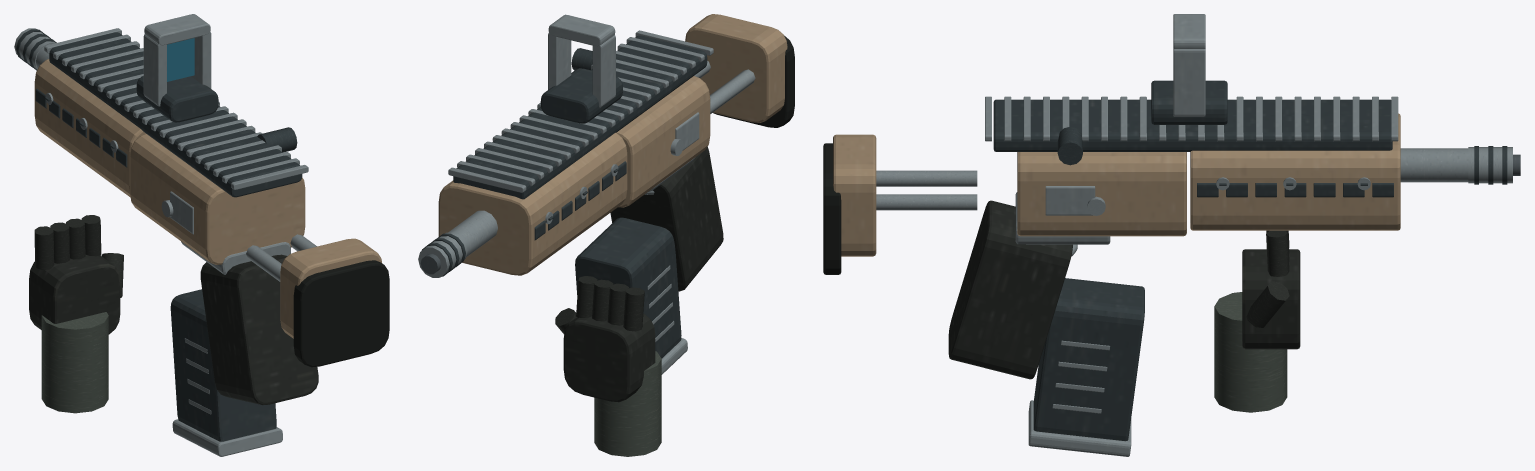
Rendered from rifle.glb.
3 views of the same model, side by side, from view 1: azimuth 30°, elevation 25°; view 2: azimuth 150°, elevation 25°; view 3: azimuth 270°, elevation 25° (orthographic). The views are drawn at different scales.
Parts seen in each view (by area): view 1: first-person-rifle; view 2: first-person-rifle; view 3: first-person-rifle.
Boxes of the visible parts, <box> form: first-person-rifle: <box>14,14,389,456</box>; first-person-rifle: <box>418,14,794,456</box>; first-person-rifle: <box>823,14,1520,456</box>.
Bounding box in the file's own units: 0.548 × 1.23 × 1.87.
8 materials, 6 textured.
